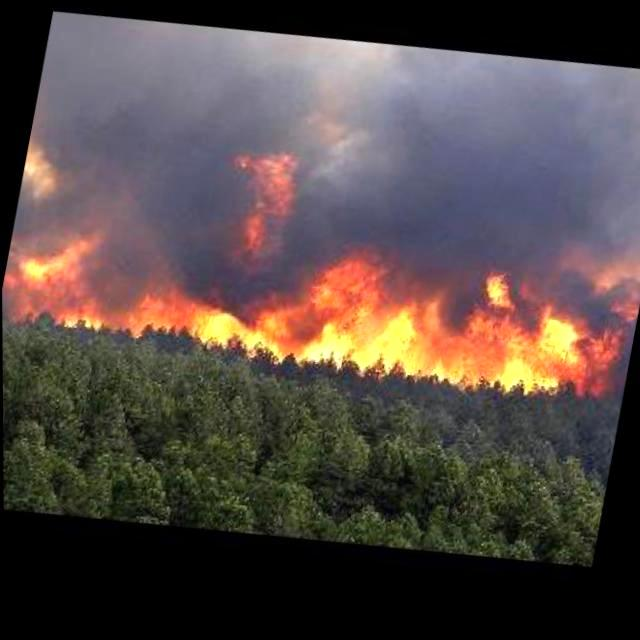fire: (107, 188, 640, 455), (4, 210, 116, 342)
